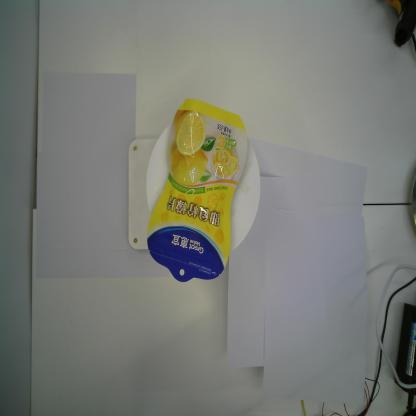Dried Fruit: (147, 98, 249, 286)
